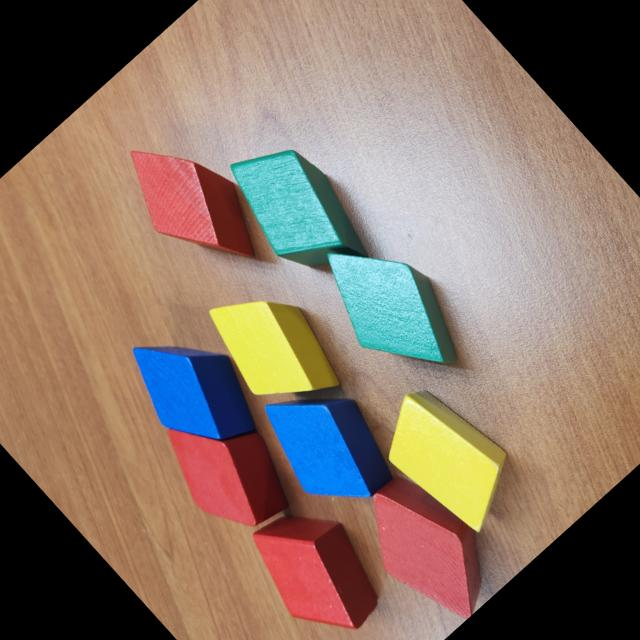blue: (243, 358, 412, 530), (110, 302, 278, 474)
green: (298, 211, 484, 401), (211, 121, 387, 302)
red: (105, 112, 280, 294), (342, 460, 516, 637), (144, 383, 310, 552), (232, 482, 402, 640)
yellow: (364, 369, 536, 545), (192, 264, 356, 432)
